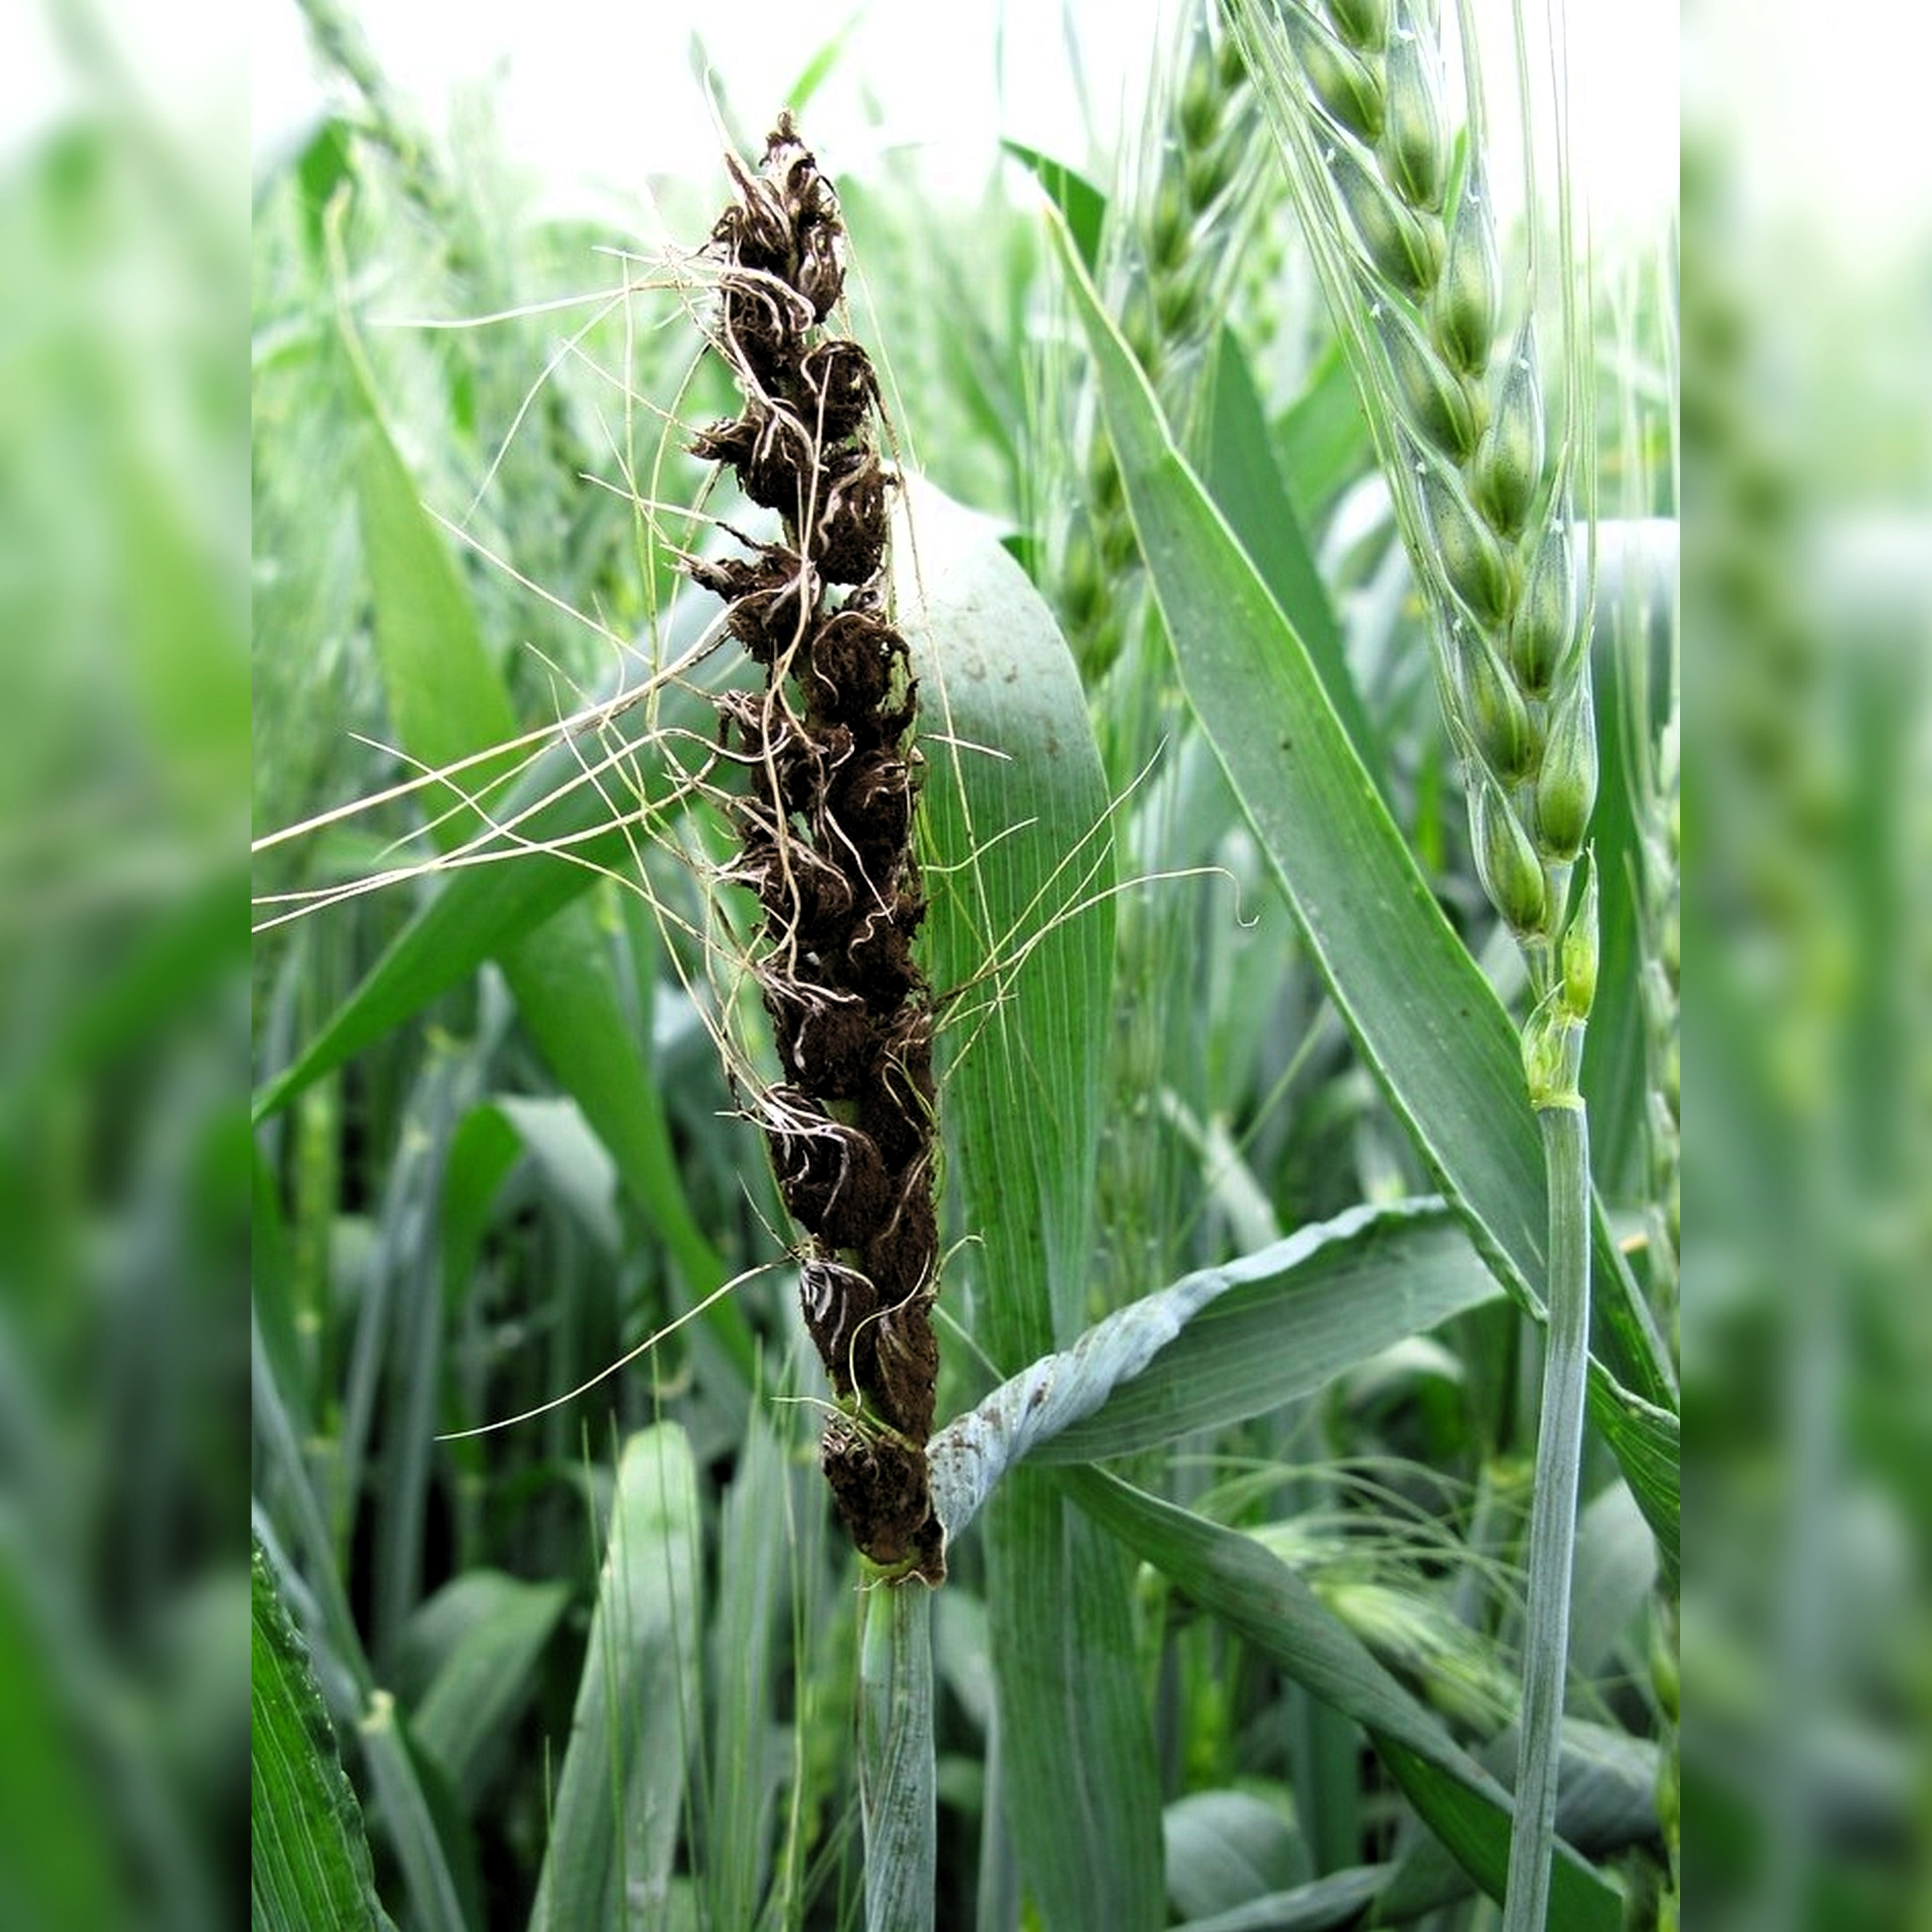Wheat Loose Smut: (531, 129, 1012, 1410)
